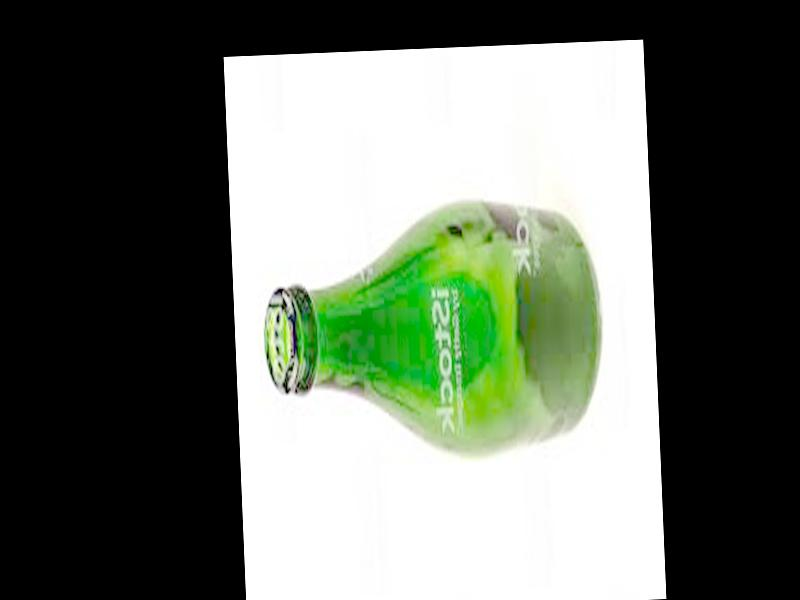Beer: (257, 194, 607, 466)
